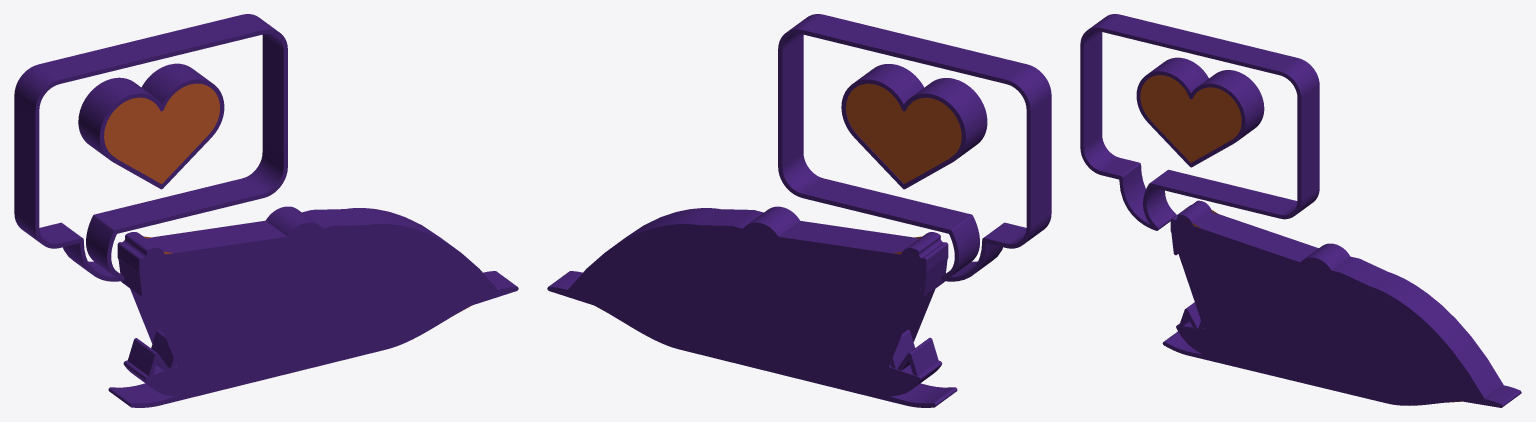
The model's file is Conflict_Response.fbx.
3 renders of one model, left to right at view 1: azimuth 30°, elevation 25°; view 2: azimuth 150°, elevation 25°; view 3: azimuth 330°, elevation 25°, orthographic. The views are drawn at different scales.
Parts seen in each view (by area): view 1: CONFLICT_RESPONSES; view 2: CONFLICT_RESPONSES; view 3: CONFLICT_RESPONSES.
Boxes of the visible parts, bbox=[...] form: CONFLICT_RESPONSES: bbox=[14, 14, 518, 407]; CONFLICT_RESPONSES: bbox=[547, 14, 1051, 407]; CONFLICT_RESPONSES: bbox=[1080, 14, 1521, 407].
Bounding box in the file's own units: 13.21 × 9.15 × 1.04.
